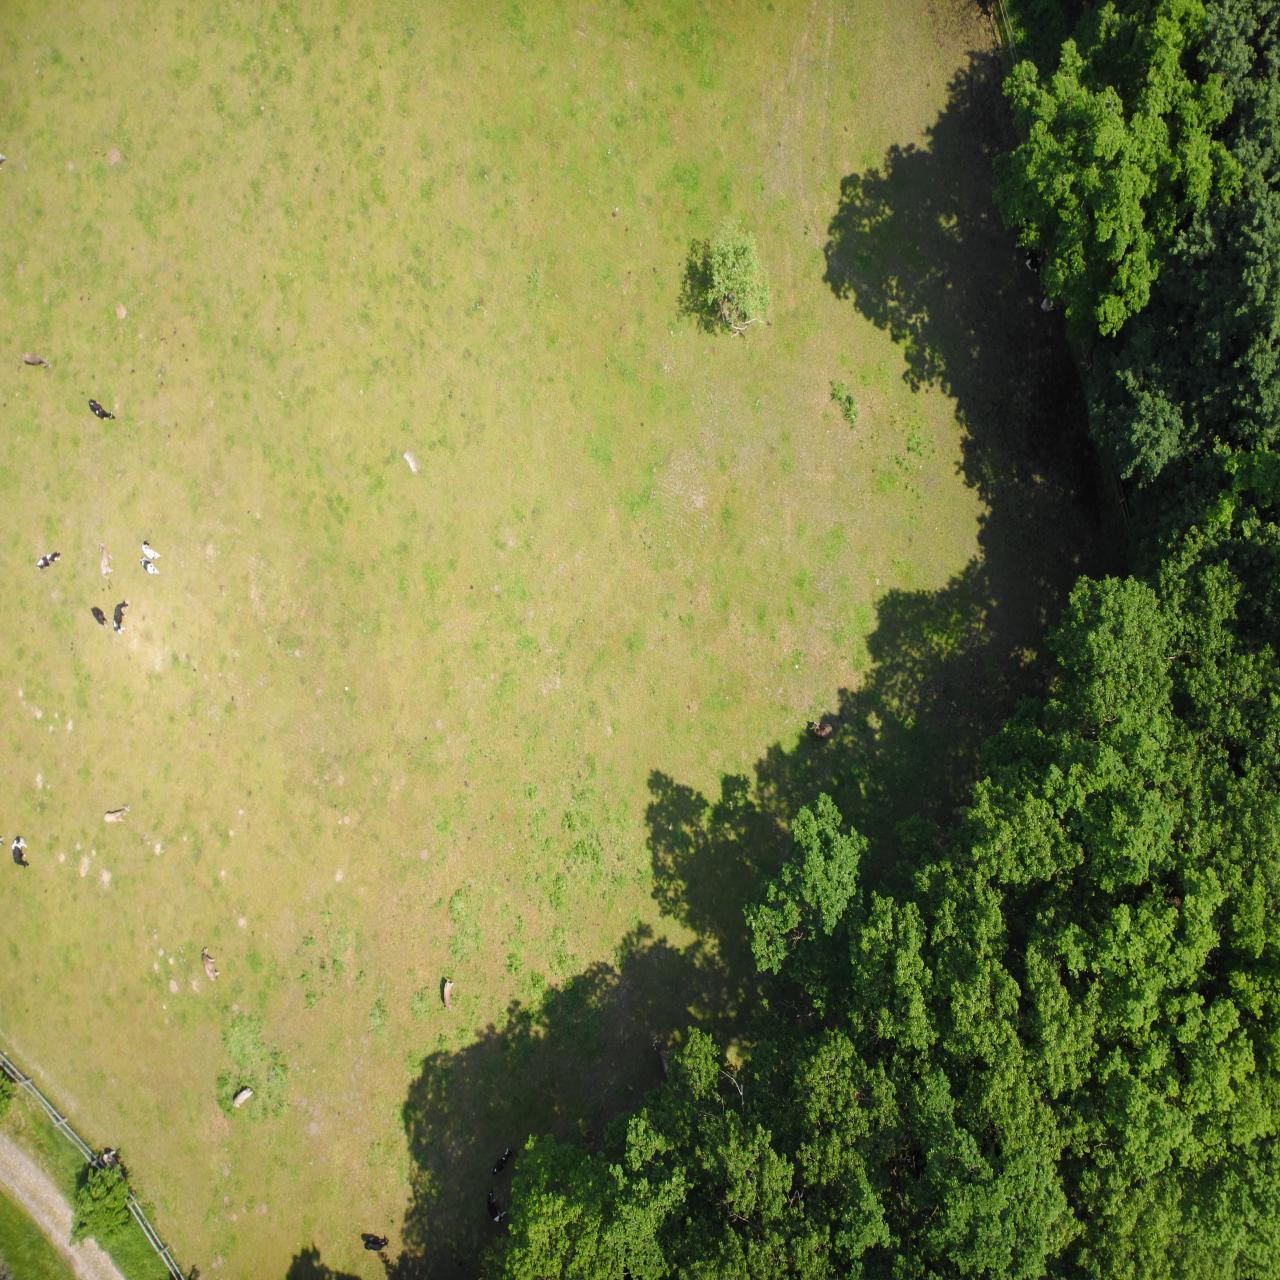cow: (1061, 298, 1078, 333), (1164, 859, 1191, 881), (1251, 411, 1268, 444), (1166, 701, 1182, 737), (1228, 911, 1257, 928), (1152, 646, 1166, 678), (1219, 710, 1244, 728), (1150, 458, 1176, 475), (1027, 171, 1047, 192), (1119, 704, 1141, 722), (1171, 653, 1189, 673), (1118, 721, 1138, 738), (826, 268, 836, 300)
